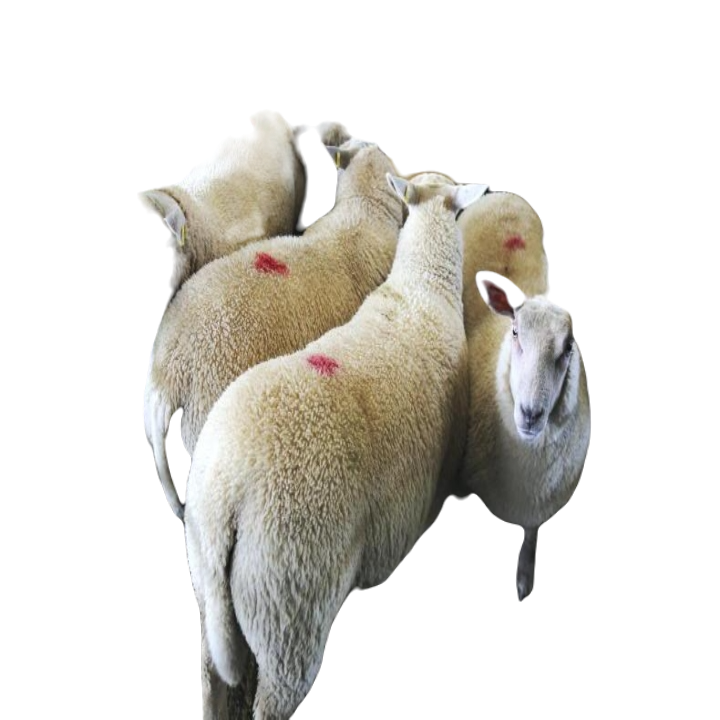Sheep: (470, 260, 600, 646)
